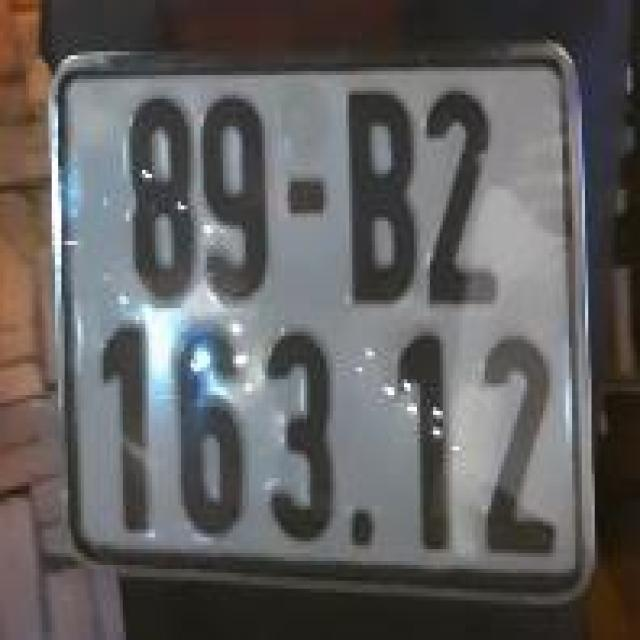0: (380, 324, 454, 569), (84, 318, 162, 547)
2: (454, 314, 567, 563), (417, 85, 504, 326)
3: (256, 326, 340, 559)
6: (168, 304, 255, 557)
8: (126, 85, 200, 310)
9: (200, 85, 275, 310)
B: (338, 77, 428, 310)
